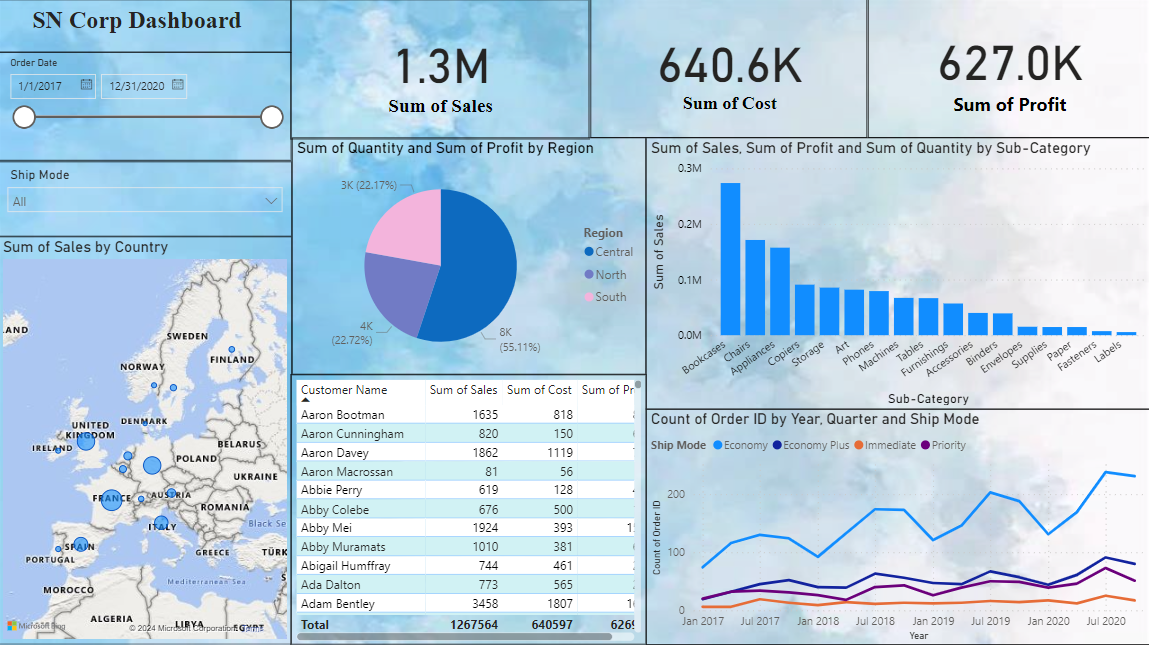

What the dashboard file says about the page in this screenshot:
{"tool":"powerbi","page":{"name":"Page 1","canvas":[1280,720],"ordinal":0},"visuals":[{"type":"card","fields":{"Values":["Sum(List of Orders.Sales)"]},"box":[324.5,1.6,334,152.7],"z":0},{"type":"card","fields":{"Values":["Sum(List of Orders.Cost)"]},"box":[658.5,1.6,308.6,154.3],"z":1000},{"type":"card","fields":{"Values":["Sum(List of Orders.Profit)"]},"box":[966.7,0,313.3,155],"z":2000},{"type":"tableEx","fields":{"Values":["List of Orders.Customer Name","Sum(List of Orders.Sales)","Sum(List of Orders.Cost)","Sum(List of Orders.Profit)"]},"box":[325,418.3,395,300],"z":3000},{"type":"clusteredColumnChart","fields":{"Y":["Sum(List of Orders.Sales)"],"Category":["List of Orders.Sub-Category"]},"box":[720,155,560,301.7],"z":4000},{"type":"lineChart","fields":{"Y":["CountNonNull(List of Orders.Order ID)"],"Category":["List of Orders.Order Date.Variation.Date Hierarchy.Year","List of Orders.Order Date.Variation.Date Hierarchy.Quarter"],"Series":["List of Orders.Ship Mode"]},"box":[720,456.7,560,261.7],"z":5000},{"type":"pieChart","fields":{"Y":["Sum(List of Orders.Quantity)"],"Category":["List of Orders.Region"]},"box":[326.7,155,393.3,263.3],"z":6000},{"type":"map","fields":{"Category":["List of Orders.Country"],"Size":["Sum(List of Orders.Sales)"]},"box":[0,265,326.7,453.3],"z":7000},{"type":"textbox","box":[0,1.6,326.1,58.9],"z":8000},{"type":"slicer","fields":{"Values":["List of Orders.Ship Mode"]},"box":[0,181.7,326.7,83.3],"z":9000},{"type":"slicer","fields":{"Values":["List of Orders.Order Date"]},"box":[0,60.4,326.1,120.9],"z":10000}]}

Visuals, with their boxes in screenshot pixels (x1, y1, x2, y2), scaled from the page's 1280x720 canvas onto the 1149x645 screenshot:
card - Sum(List of Orders.Sales): <bbox>291, 1, 591, 138</bbox>
card - Sum(List of Orders.Cost): <bbox>591, 1, 868, 140</bbox>
card - Sum(List of Orders.Profit): <bbox>868, 0, 1148, 139</bbox>
tableEx - List of Orders.Customer Name x Sum(List of Orders.Sales): <bbox>292, 375, 646, 643</bbox>
clusteredColumnChart - Sum(List of Orders.Sales) x List of Orders.Sub-Category: <bbox>646, 139, 1148, 409</bbox>
lineChart - CountNonNull(List of Orders.Order ID) x List of Orders.Order Date.Variation.Date Hierarchy.Year: <bbox>646, 409, 1148, 644</bbox>
pieChart - Sum(List of Orders.Quantity) x List of Orders.Region: <bbox>293, 139, 646, 375</bbox>
map - List of Orders.Country x Sum(List of Orders.Sales): <bbox>0, 237, 293, 643</bbox>
textbox: <bbox>0, 1, 293, 54</bbox>
slicer - List of Orders.Ship Mode: <bbox>0, 163, 293, 237</bbox>
slicer - List of Orders.Order Date: <bbox>0, 54, 293, 162</bbox>
